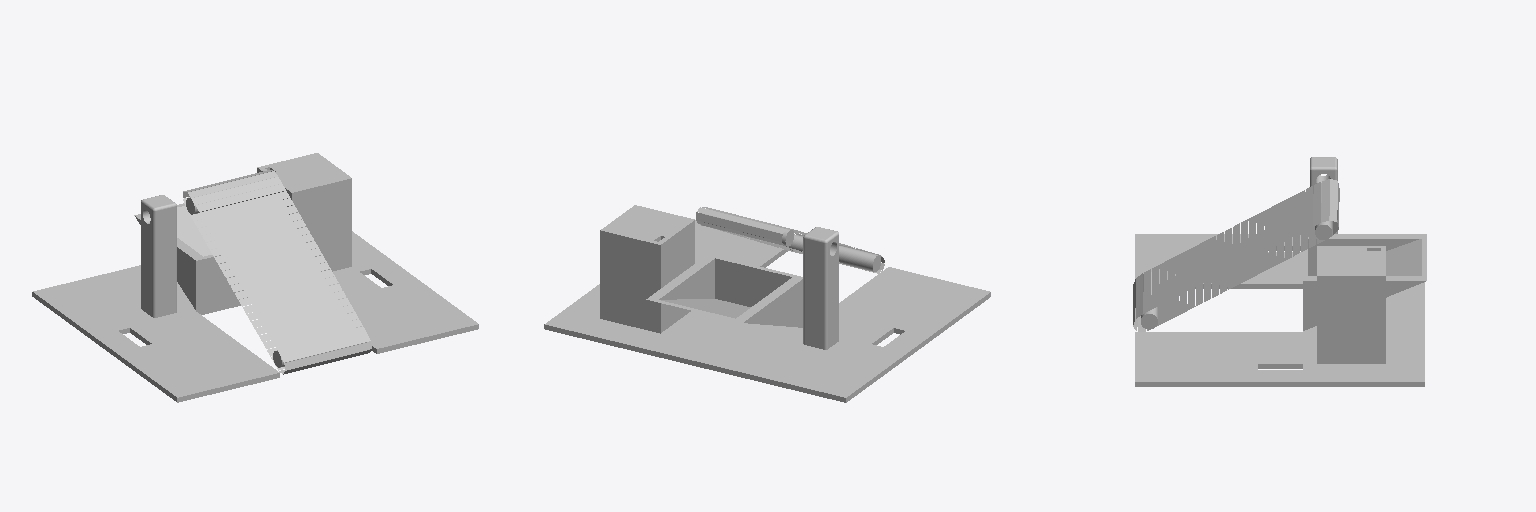
Rendered from BARQUIDOU SIN FLOTADOR obj 111.obj.
The picture shows the model from 3 angles: view 1: azimuth 30°, elevation 25°; view 2: azimuth 150°, elevation 25°; view 3: azimuth 270°, elevation 25°; orthographic projection.
Size of the model in its own units: 125 by 45.14 by 106.